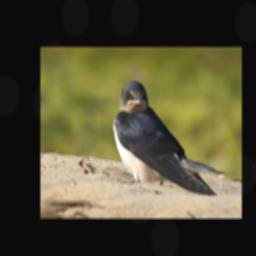Swallow: (112, 80, 230, 195)
